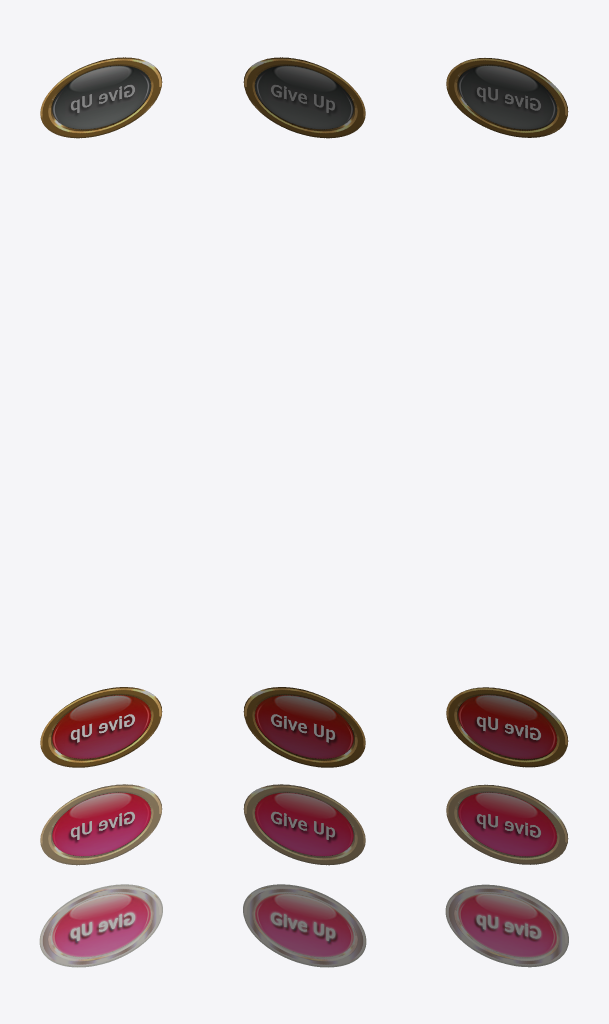
Rendered from Giveup_set.fbx.
3 views of the same model, side by side, from view 1: azimuth 30°, elevation 25°; view 2: azimuth 150°, elevation 25°; view 3: azimuth 330°, elevation 25° (orthographic).
Parts seen in each view (by area): view 1: Giveup_mouseclick, Giveup_off, Giveup_mouseover, Giveup_on; view 2: Giveup_mouseclick, Giveup_off, Giveup_mouseover, Giveup_on; view 3: Giveup_mouseclick, Giveup_on, Giveup_mouseover, Giveup_off.
Boxes of the visible parts, bbox=[...] form: Giveup_mouseclick: bbox=[39, 884, 162, 967]; Giveup_off: bbox=[40, 57, 162, 138]; Giveup_mouseover: bbox=[40, 784, 162, 865]; Giveup_on: bbox=[40, 687, 162, 767]; Giveup_mouseclick: bbox=[243, 884, 366, 967]; Giveup_off: bbox=[243, 57, 365, 138]; Giveup_mouseover: bbox=[243, 784, 365, 865]; Giveup_on: bbox=[243, 687, 365, 767]; Giveup_mouseclick: bbox=[445, 884, 568, 967]; Giveup_on: bbox=[446, 687, 568, 767]; Giveup_mouseover: bbox=[446, 784, 568, 864]; Giveup_off: bbox=[446, 58, 568, 137].
Bounding box in the file's own units: 14.77 × 77.14 × 0.
Materials: 4 (4 with a texture image).
